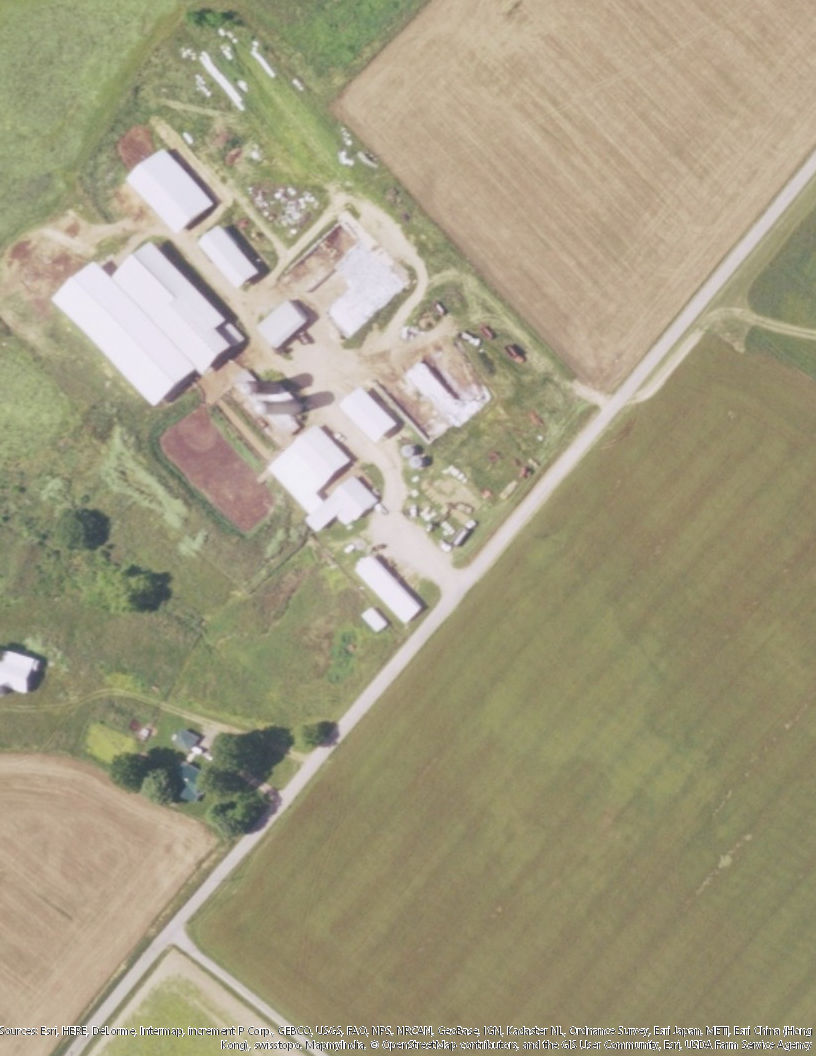cafo: (48, 236, 252, 405), (263, 422, 380, 536), (125, 146, 218, 234), (353, 551, 427, 628), (336, 383, 406, 447), (199, 222, 261, 294)
